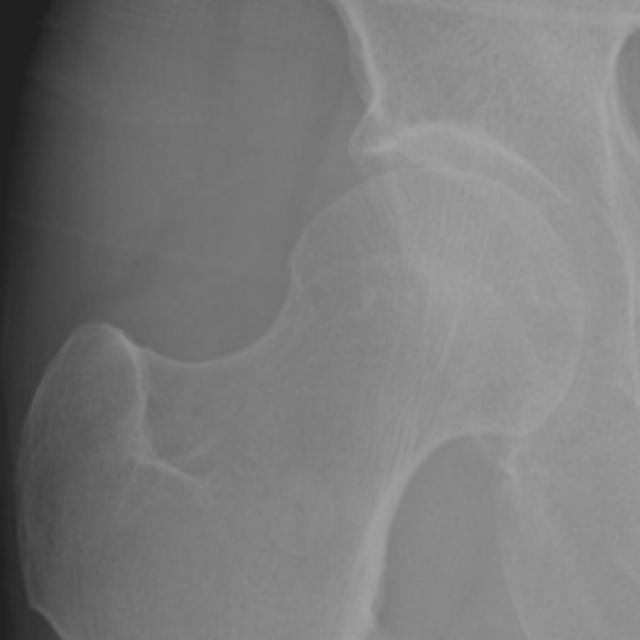Fitted_femural_head: (304, 167, 432, 304)
